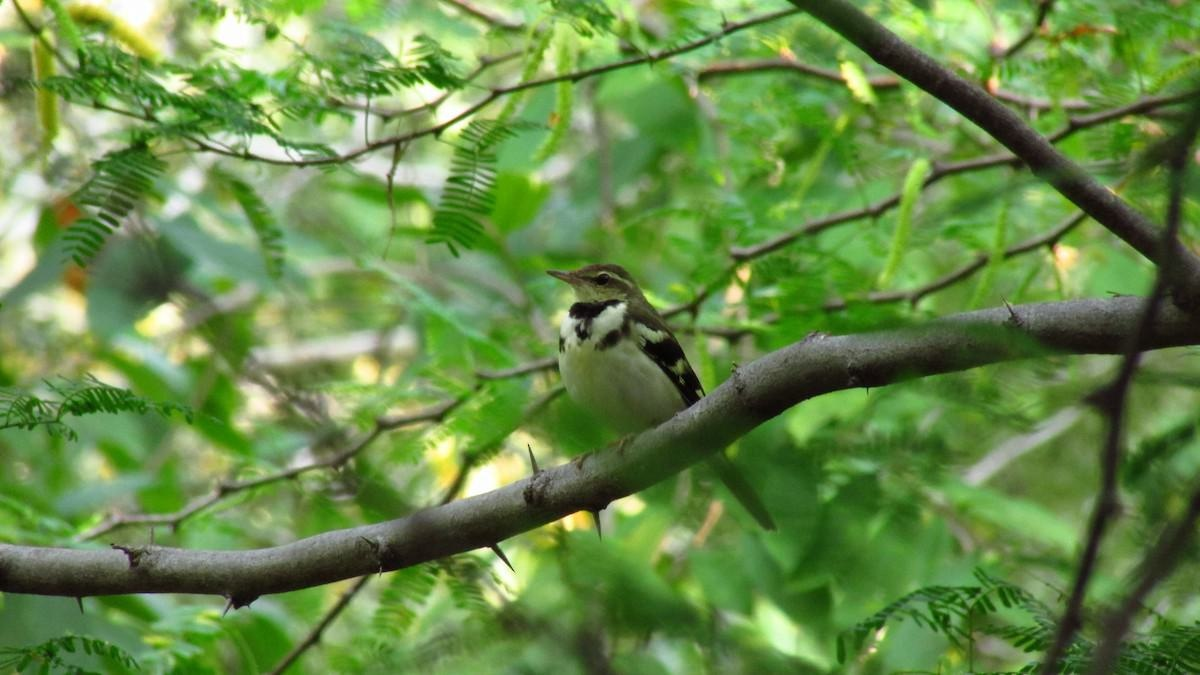wagtail: (515, 241, 814, 517)
